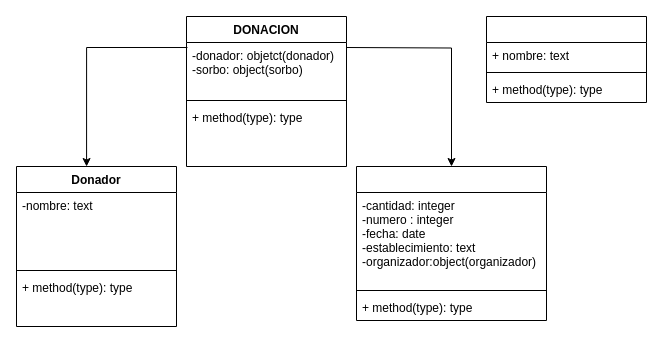
The diagram is 663 pixels wide and 343 high, and some of its shapes have lost their labels. The shapes that lost their labels are listed below. From the top down, each one's box as (x1, y1, x2, y2) in pixels, then its label:
(486, 16, 646, 102): ORGANIZADOR
(356, 166, 546, 320): Sorbo
